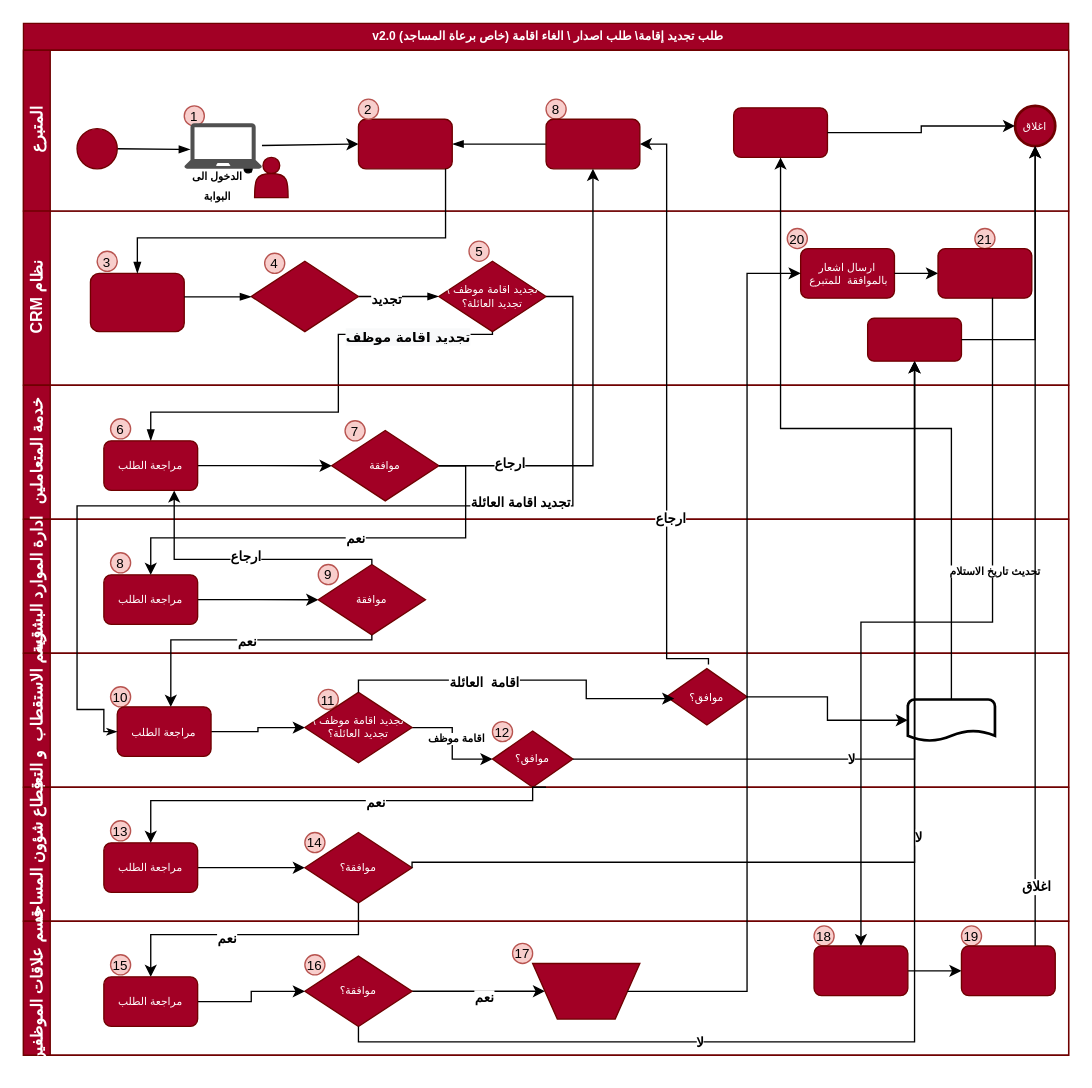
The diagram is 1092 pixels wide and 1088 high, and some of its shapes have lost their labels. The centre of each missing label's shape, as x and y in pixels:
"ارسال رسالة للمتبرع لاستلام جوازه" goes at (984,272).
"ارسال رسالة موافقة شهادة من يهمه الامر في حال تجديد اقامة العائلة" goes at (779,132).
"استكمال البيانات" goes at (592,143).
"اصدار شهادة لمن يهمه الأمر" goes at (951,719).
"اغلاق الطلب" goes at (1007,970).
"بدء بتجديد الاقامة" goes at (585,990).
"بداية" goes at (96,148).
"تجديد \ الغاء؟" goes at (304,296).
"تحديث الطلب باستلام" goes at (860,970).
"تعبئة و نموذج طلب تجديد اقامة" goes at (404,143).
"رسالة إعتذار إلى للمرشح و أيضا يتم الارسال للمتبرع في حالة التجديد" goes at (913,339).
"طلب إصدار / إلغاء إقامة بعد" goes at (136,302).
